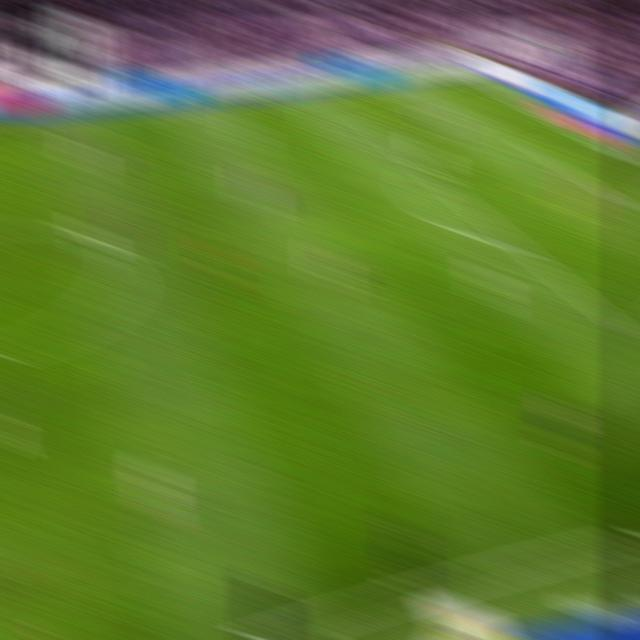bigarea_bottom_inner: (616, 317, 640, 350)
bigarea_top_inner: (362, 118, 389, 139)
bigarea_top_outter: (511, 97, 538, 116)
bottom_arc_area_intersection: (503, 233, 532, 257)
corner: (449, 64, 477, 82)
smallarea_top_inner: (526, 141, 550, 160)
top_arc_area_intersection: (418, 163, 445, 184)
